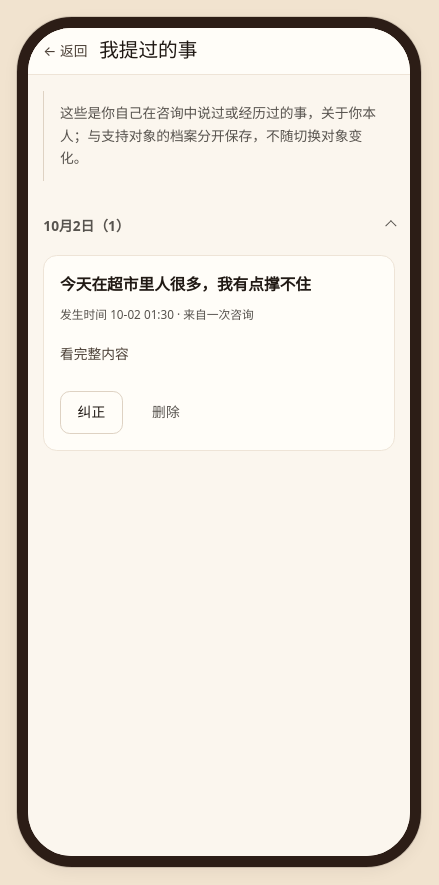
记忆页 · 纠正 › P0 表单预填原文与发生时间；提交成功给出「不再作为依据」的提示
Expected: the text "今天在超市里人很多，我有点撑不住" is shown, [60, 273, 311, 295]
Click the button "纠正" at x=91, y=413, box [60, 391, 123, 434]
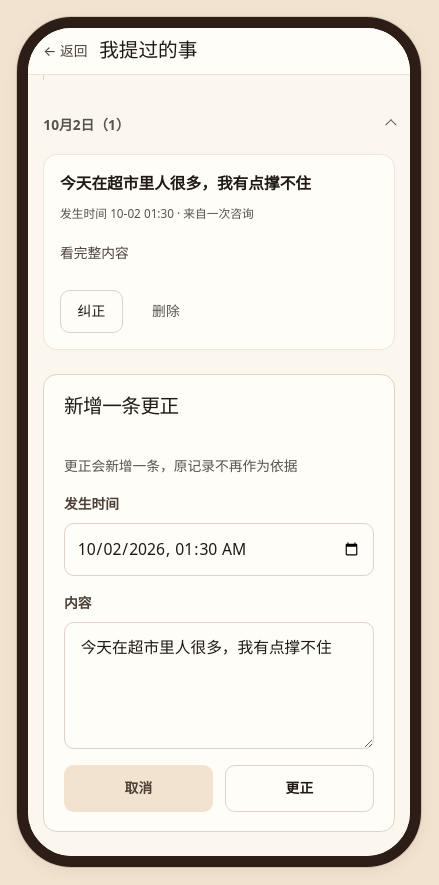
Expected: the text box labelled "内容" holds "今天在超市里人很多，我有点撑不住"
Replace the text in the text box labelled "内容" with "那天在超市里人很多" at x=219, y=685, box [64, 622, 374, 749]
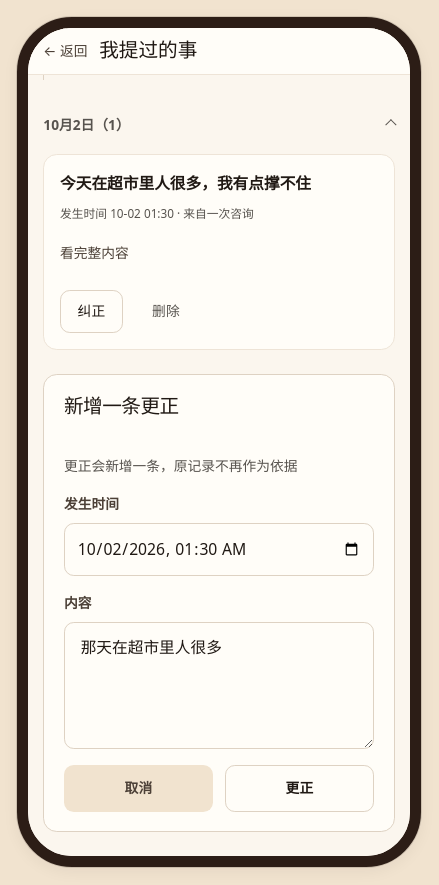
Click the button "更正" at x=300, y=788, box [225, 765, 374, 812]
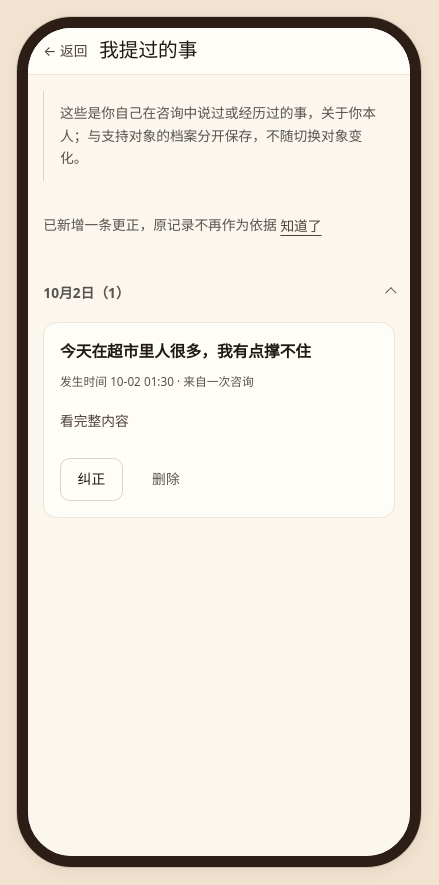
Expected: the text "已新增一条更正，原记录不再作为依据 知道了" is shown, [43, 204, 324, 248]
